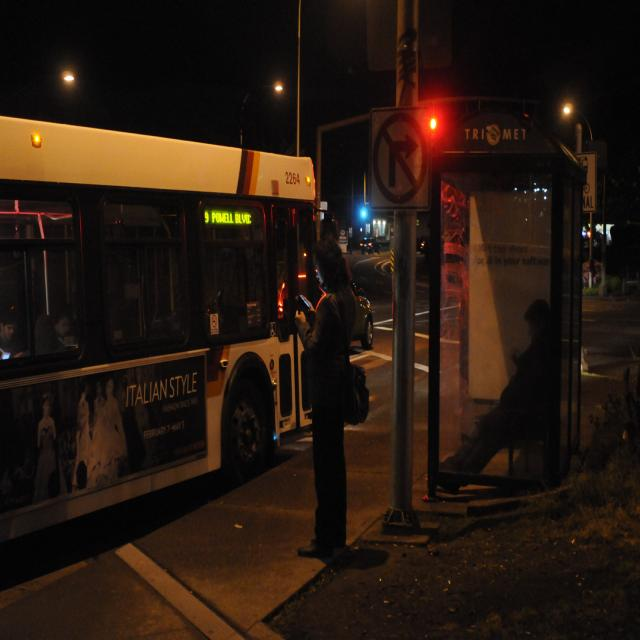Bus: (0, 139, 331, 571)
People: (435, 289, 559, 548), (287, 246, 375, 582), (42, 290, 87, 383)
car: (554, 210, 640, 332), (330, 269, 392, 365)
